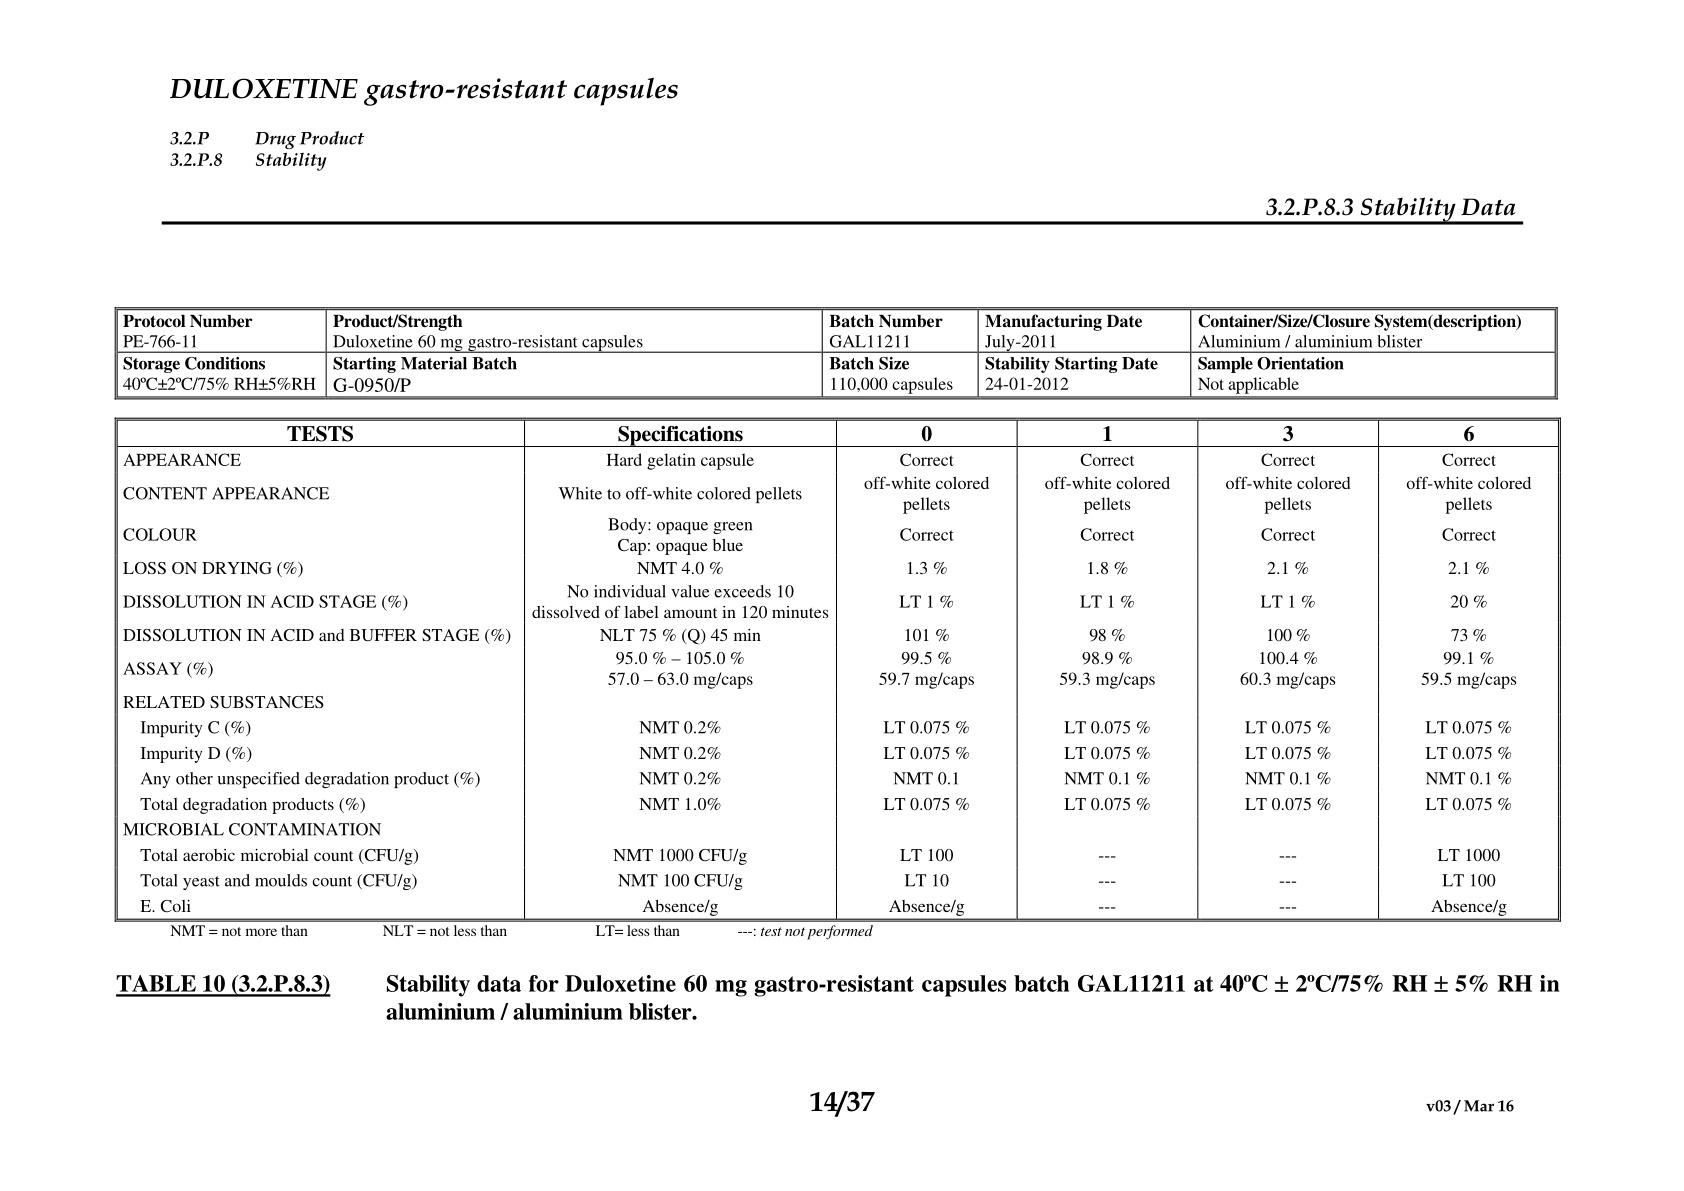full_lined: (113, 307, 1559, 401)
partial_lined: (113, 418, 1562, 923)
